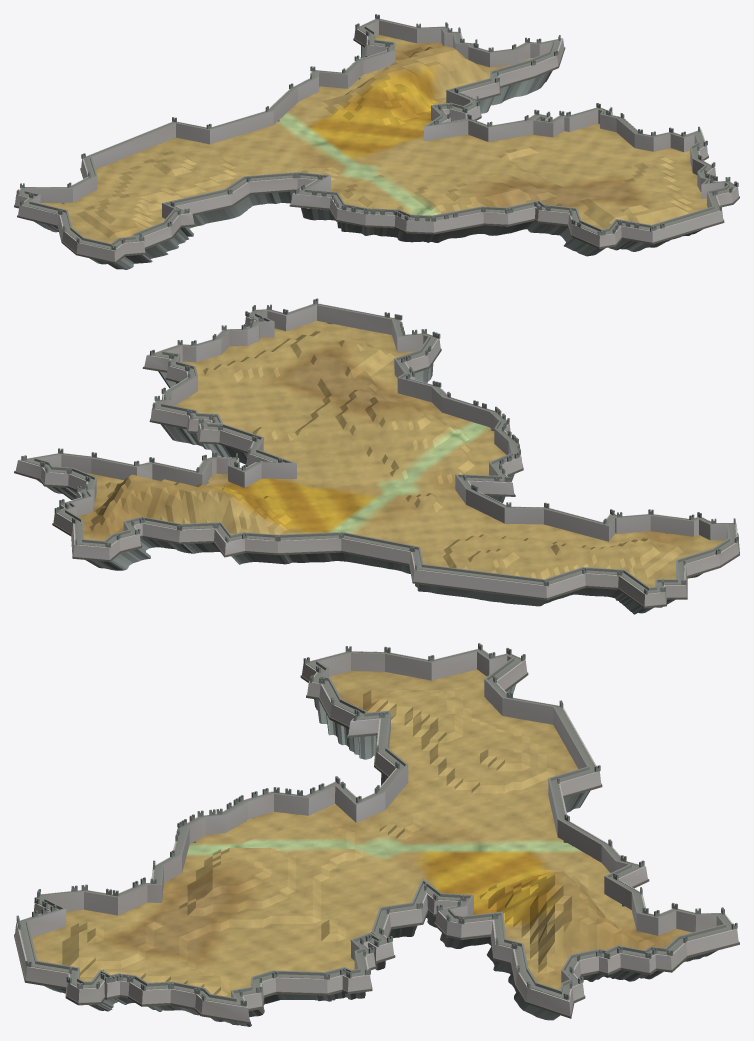
The picture shows the model from 3 angles, top to bottom: view 1: azimuth 30°, elevation 25°; view 2: azimuth 150°, elevation 25°; view 3: azimuth 270°, elevation 25°; orthographic projection. The views are drawn at different scales.
Visible parts, largest first — view 1: ground_9190d601; view 2: ground_9190d601; view 3: ground_9190d601.
Boxes of the visible parts, x1,y1,x2,y2 form: ground_9190d601: (14, 14, 739, 269); ground_9190d601: (14, 298, 739, 614); ground_9190d601: (14, 643, 739, 1026).
Size of the model in its own units: 154 by 9.95 by 130.
Materials: 3 (1 with a texture image).
